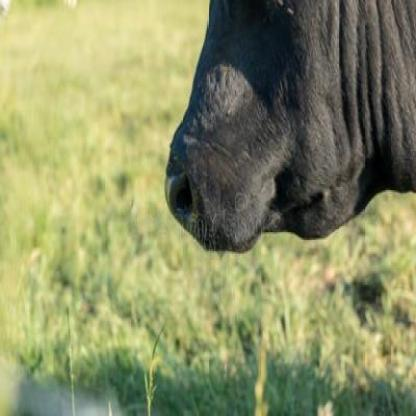lower: (292, 218, 297, 228)
mouth: (166, 138, 300, 256)
upper: (210, 217, 247, 225)
